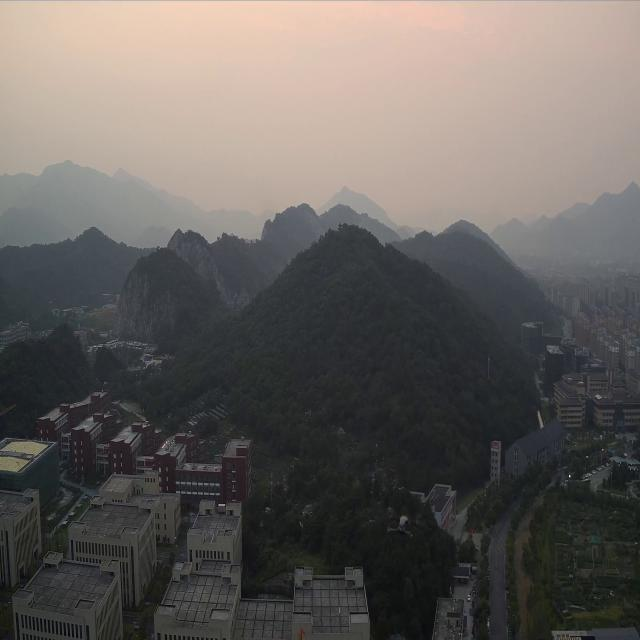UAV: (387, 508, 421, 539)
